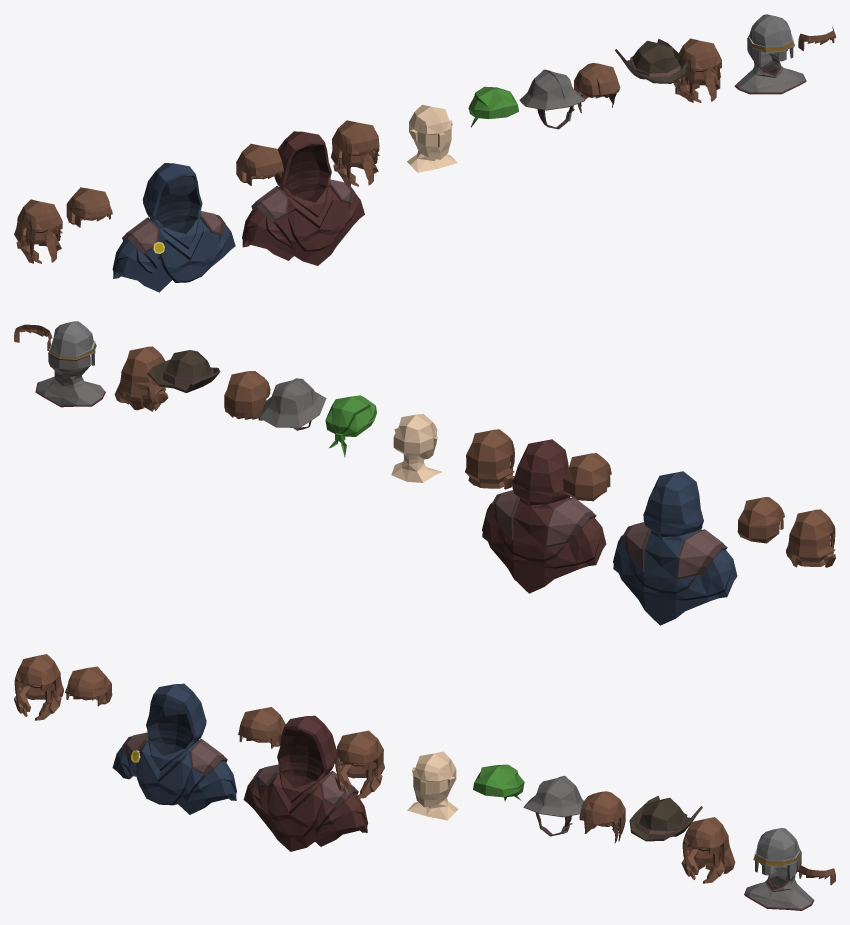
File: ARMORS_hats_01.fbx
The picture shows the model from 3 angles, top to bottom: view 1: azimuth 30°, elevation 25°; view 2: azimuth 150°, elevation 25°; view 3: azimuth 330°, elevation 25°; orthographic projection.
Parts seen in each view (by area): view 1: HATS2_archerrogue_09exp:shall1, HATS2_archerrogue_09exp:shall2, HATS2_archerrogue_09exp:chainmail_pothelm, HATS2_archerrogue_09exp:headmesh, HATS2_archerrogue_09exp:shall1_female_hair, HATS2_archerrogue_09exp:shall2_female_hairtucked, HATS2_archerrogue_09exp:huntershat_female_hairtucked, HATS2_archerrogue_09exp:huntershat, HATS2_archerrogue_09exp:pothelm, HATS2_archerrogue_09exp:shall1_male_hair, HATS2_archerrogue_09exp:pothelm_female_hairtucked, HATS2_archerrogue_09exp:bandana (+1 smaller); view 2: HATS2_archerrogue_09exp:shall2, HATS2_archerrogue_09exp:shall1, HATS2_archerrogue_09exp:chainmail_pothelm, HATS2_archerrogue_09exp:shall1_female_hair, HATS2_archerrogue_09exp:headmesh, HATS2_archerrogue_09exp:shall2_female_hairtucked, HATS2_archerrogue_09exp:pothelm, HATS2_archerrogue_09exp:huntershat_female_hairtucked, HATS2_archerrogue_09exp:huntershat, HATS2_archerrogue_09exp:shall1_male_hair, HATS2_archerrogue_09exp:pothelm_female_hairtucked, HATS2_archerrogue_09exp:bandana (+1 smaller); view 3: HATS2_archerrogue_09exp:shall1, HATS2_archerrogue_09exp:shall2, HATS2_archerrogue_09exp:chainmail_pothelm, HATS2_archerrogue_09exp:huntershat_female_hairtucked, HATS2_archerrogue_09exp:shall1_female_hair, HATS2_archerrogue_09exp:headmesh, HATS2_archerrogue_09exp:shall2_female_hairtucked, HATS2_archerrogue_09exp:huntershat, HATS2_archerrogue_09exp:pothelm, HATS2_archerrogue_09exp:pothelm_female_hairtucked, HATS2_archerrogue_09exp:shall1_male_hair, HATS2_archerrogue_09exp:bandana (+1 smaller).
Part boxes in pixels (box(x1,y1,x2,y2)): HATS2_archerrogue_09exp:shall1: box(242, 131, 364, 265); HATS2_archerrogue_09exp:shall2: box(112, 163, 235, 292); HATS2_archerrogue_09exp:chainmail_pothelm: box(734, 14, 806, 94); HATS2_archerrogue_09exp:headmesh: box(407, 104, 457, 172); HATS2_archerrogue_09exp:shall1_female_hair: box(331, 120, 379, 186); HATS2_archerrogue_09exp:shall2_female_hairtucked: box(14, 199, 62, 263); HATS2_archerrogue_09exp:huntershat_female_hairtucked: box(673, 38, 721, 102); HATS2_archerrogue_09exp:huntershat: box(615, 38, 687, 83); HATS2_archerrogue_09exp:pothelm: box(519, 69, 585, 129); HATS2_archerrogue_09exp:shall1_male_hair: box(236, 143, 283, 185); HATS2_archerrogue_09exp:pothelm_female_hairtucked: box(574, 63, 620, 112); HATS2_archerrogue_09exp:bandana: box(468, 86, 518, 127); HATS2_archerrogue_09exp:shall2: box(613, 471, 737, 625); HATS2_archerrogue_09exp:shall1: box(482, 439, 606, 593); HATS2_archerrogue_09exp:chainmail_pothelm: box(35, 321, 105, 407); HATS2_archerrogue_09exp:shall1_female_hair: box(465, 429, 514, 489); HATS2_archerrogue_09exp:headmesh: box(391, 413, 442, 482); HATS2_archerrogue_09exp:shall2_female_hairtucked: box(786, 509, 835, 567); HATS2_archerrogue_09exp:pothelm: box(260, 378, 326, 430); HATS2_archerrogue_09exp:huntershat_female_hairtucked: box(114, 346, 168, 411); HATS2_archerrogue_09exp:huntershat: box(147, 350, 220, 392); HATS2_archerrogue_09exp:shall1_male_hair: box(563, 453, 611, 501); HATS2_archerrogue_09exp:pothelm_female_hairtucked: box(224, 371, 270, 420); HATS2_archerrogue_09exp:bandana: box(325, 395, 376, 457); HATS2_archerrogue_09exp:shall1: box(243, 715, 367, 851); HATS2_archerrogue_09exp:shall2: box(112, 683, 236, 814); HATS2_archerrogue_09exp:chainmail_pothelm: box(744, 828, 814, 910); HATS2_archerrogue_09exp:huntershat_female_hairtucked: box(681, 817, 735, 883); HATS2_archerrogue_09exp:shall1_female_hair: box(335, 730, 384, 798); HATS2_archerrogue_09exp:headmesh: box(407, 751, 458, 820); HATS2_archerrogue_09exp:shall2_female_hairtucked: box(14, 654, 63, 720); HATS2_archerrogue_09exp:huntershat: box(629, 795, 702, 841); HATS2_archerrogue_09exp:pothelm: box(523, 775, 583, 836); HATS2_archerrogue_09exp:pothelm_female_hairtucked: box(579, 791, 625, 843); HATS2_archerrogue_09exp:shall1_male_hair: box(238, 707, 285, 748); HATS2_archerrogue_09exp:bandana: box(473, 764, 524, 801).
Size of the model in its own units: 3345 by 564 by 255.
